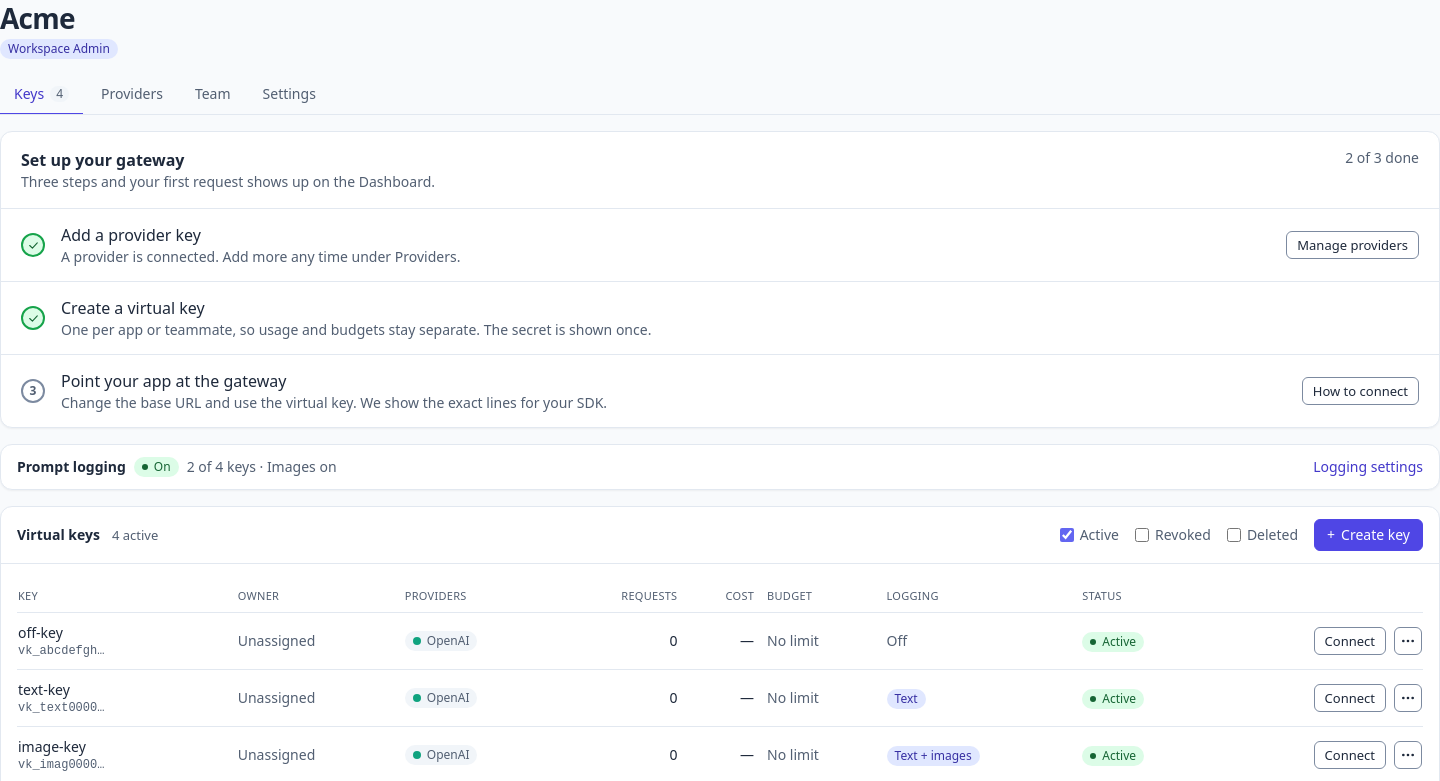
Workspace -> creating a key with logging › defaults both options OFF, keeps images disabled until text is ticked, and sends the choices
Click the button "+ Create key" at x=1369, y=535, box 1314,519 -> 1423,551
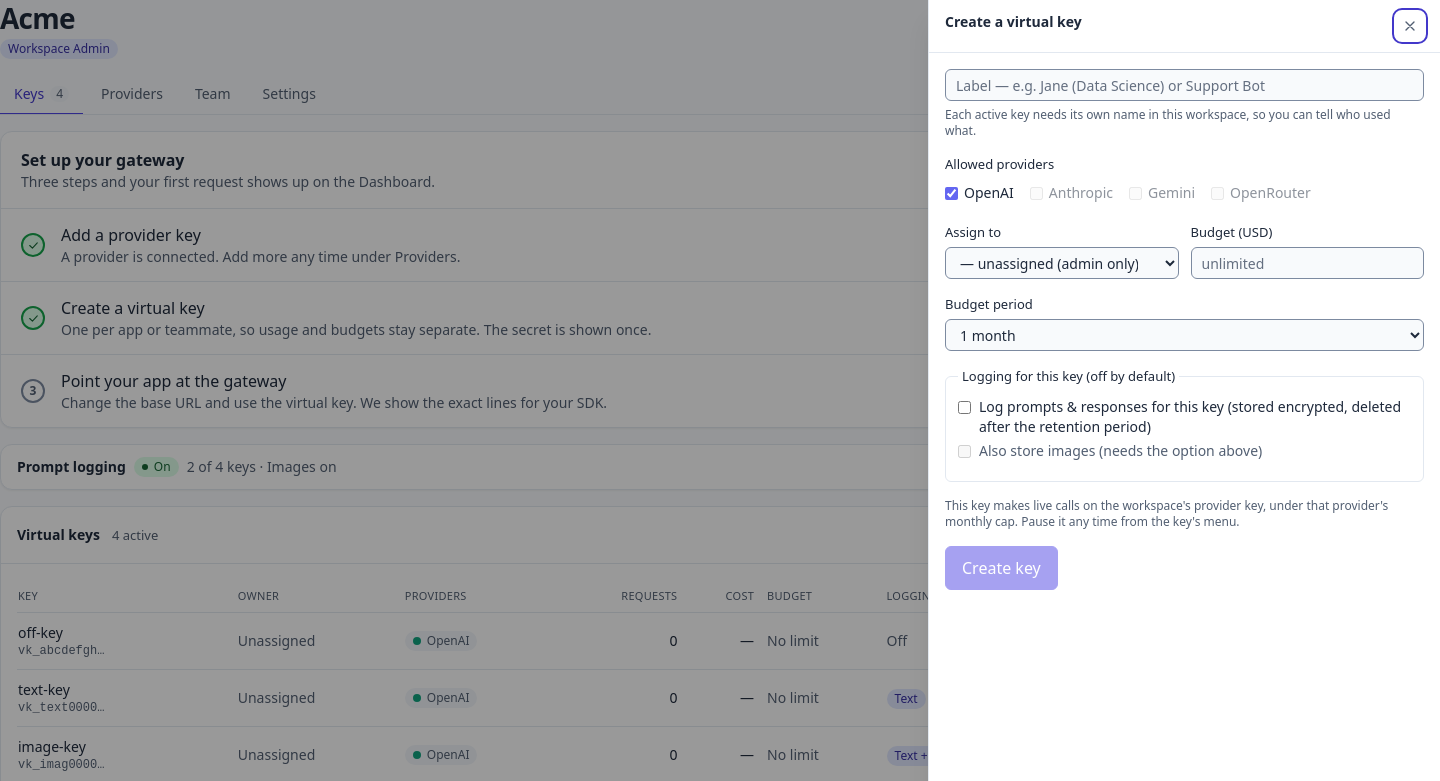
Type "new-key" into the field with placeholder "Label — e.g. Jane (Data Science) or Support Bot" at x=1184, y=85, box 945,69 -> 1424,101
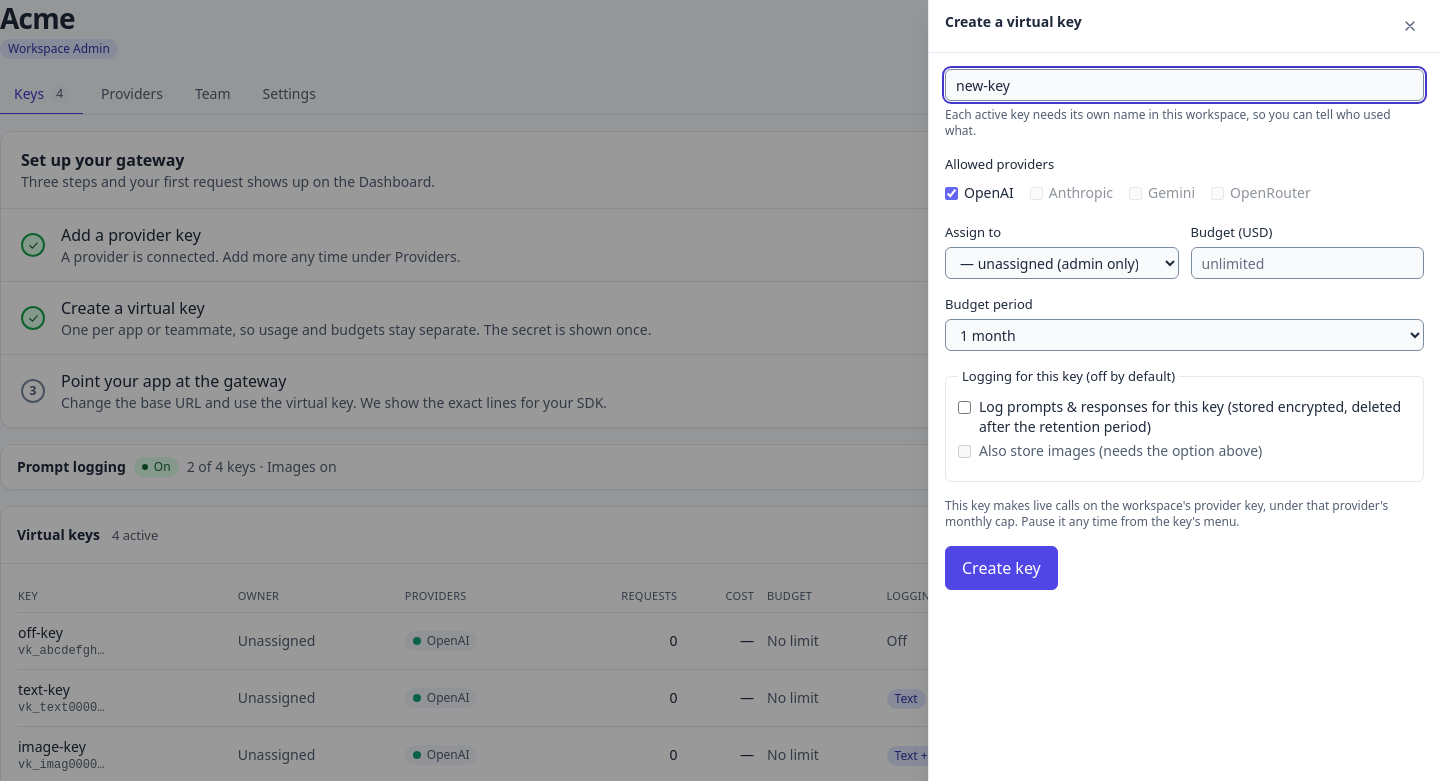
Now the 5th checkbox is not checked
Now the checkbox labelled "Also store images (needs the option above)" is not checked, box 958,445 -> 971,458
Now the checkbox labelled "Also store images (needs the option above)" is disabled, box 958,445 -> 971,458
Click the 5th checkbox at x=964, y=408, box 958,401 -> 971,414
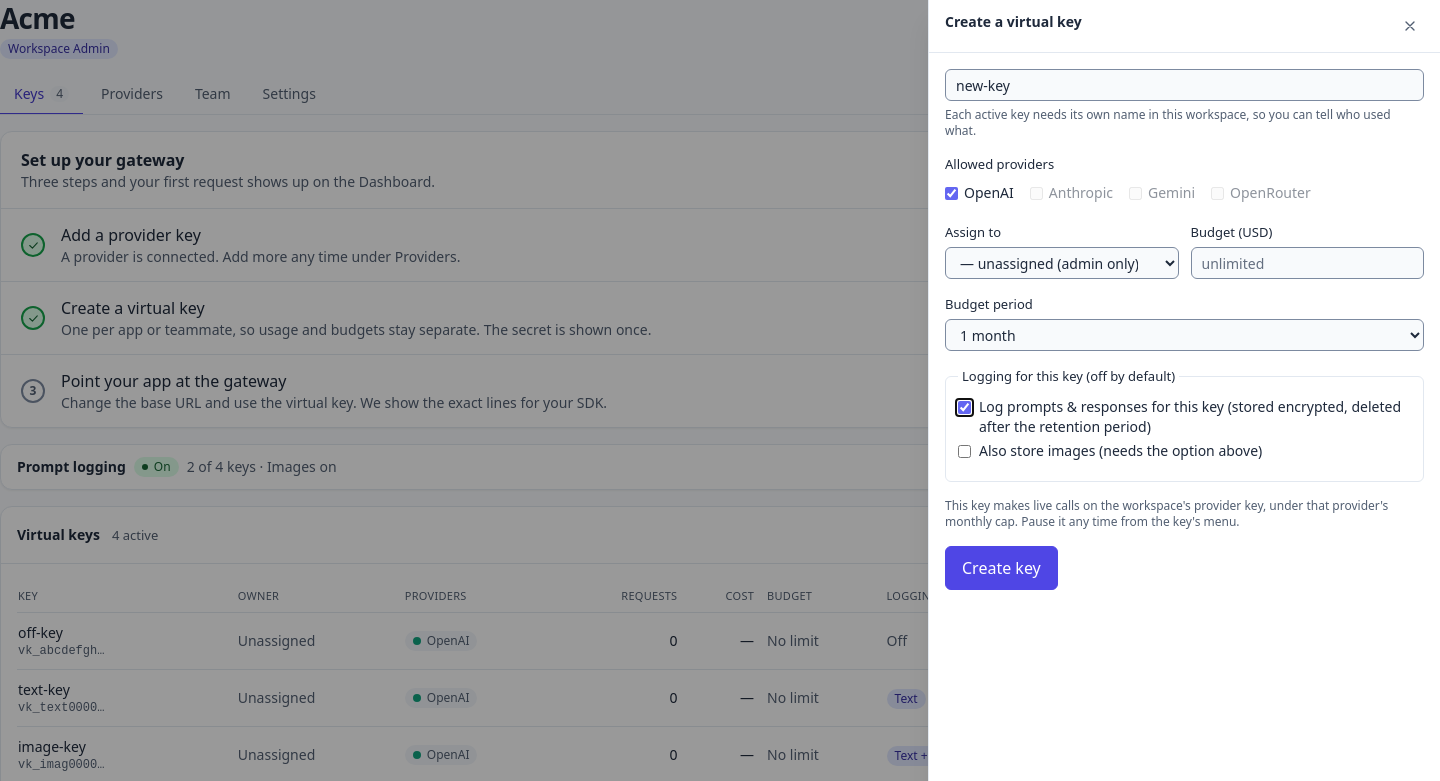
Now the checkbox labelled "Also store images (needs the option above)" is enabled
Click the checkbox labelled "Also store images (needs the option above)" at x=964, y=452, box 958,445 -> 971,458
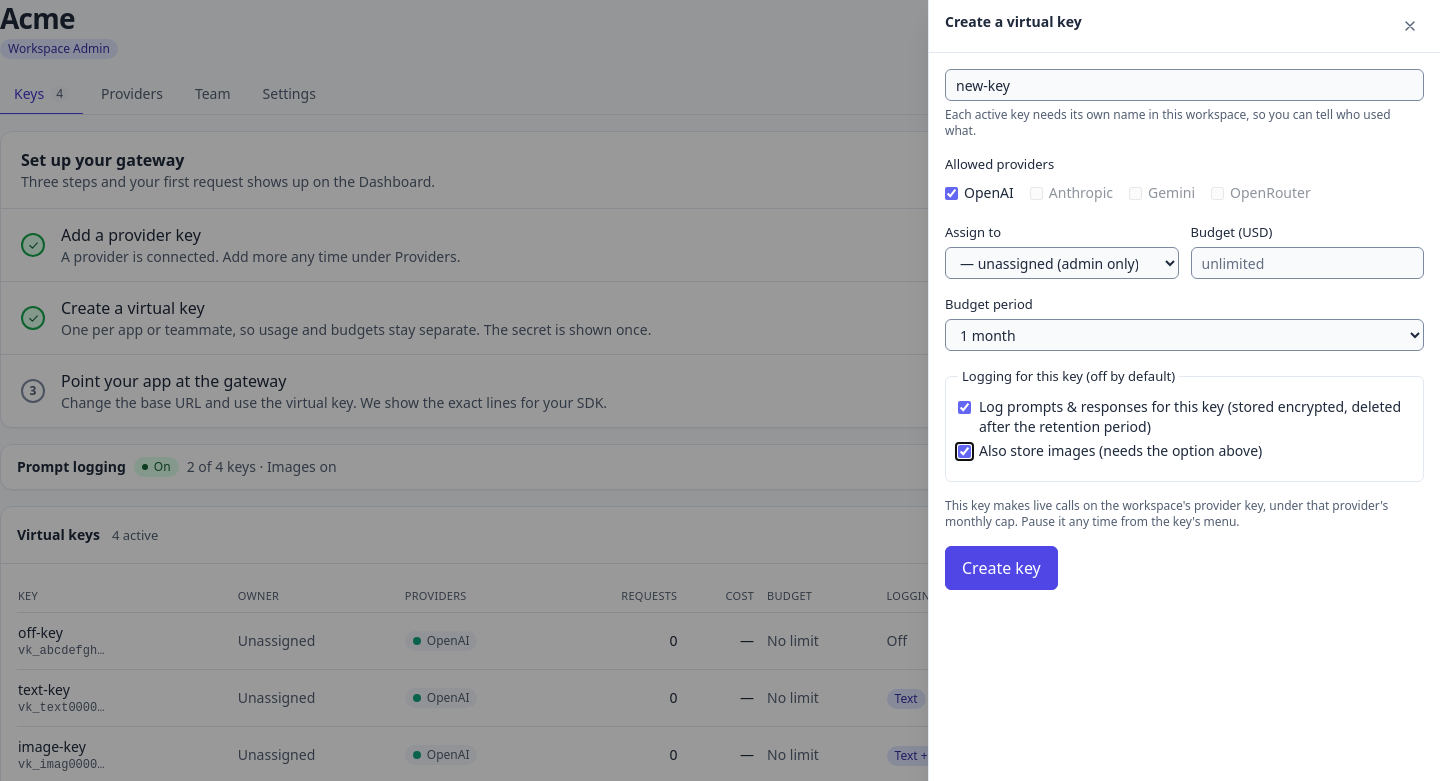
Click the button "Create key" at x=1001, y=568, box 945,546 -> 1058,590
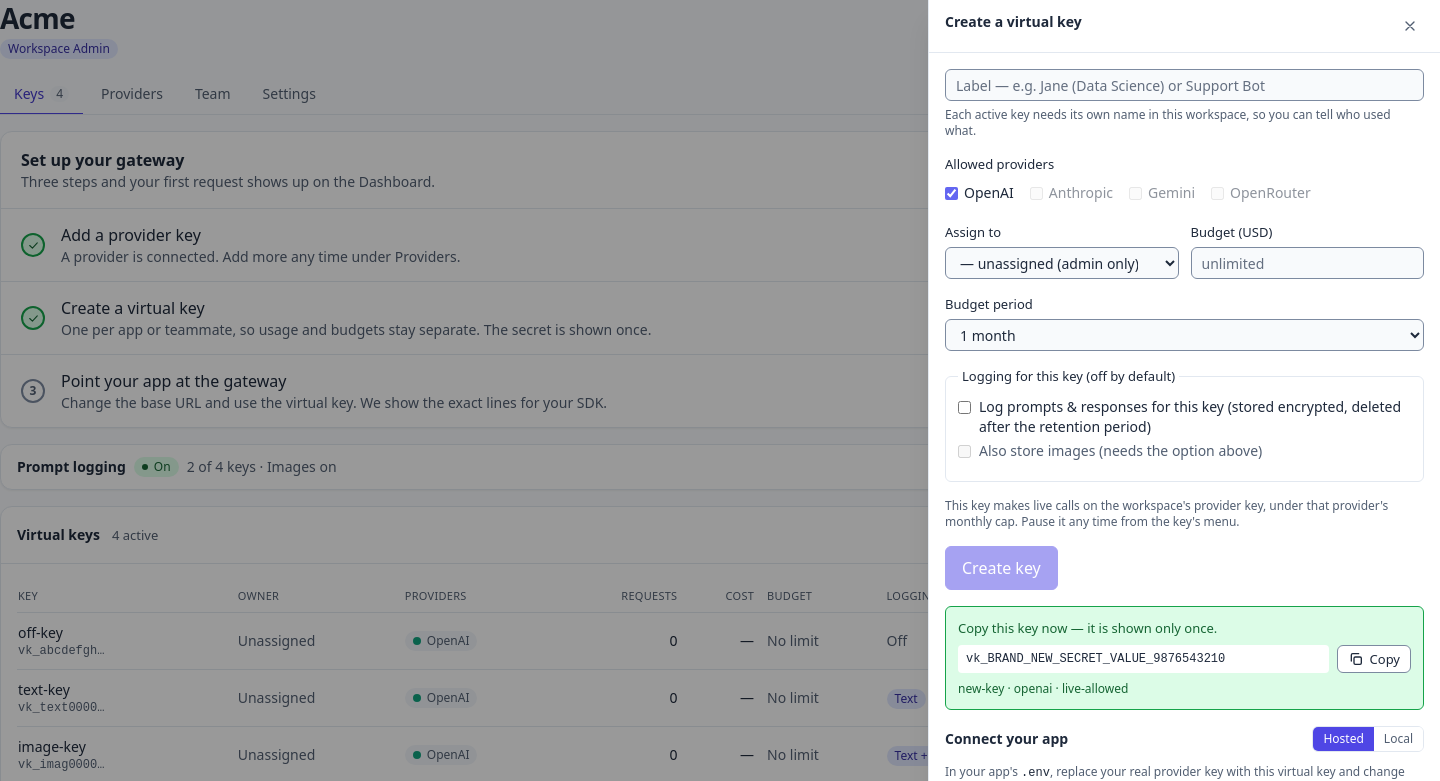
Now the 5th checkbox is not checked, box 958,401 -> 971,414
Now the text "vk_BRAND_NEW_SECRET_VALUE_9876543210" is shown, box 958,645 -> 1328,673
